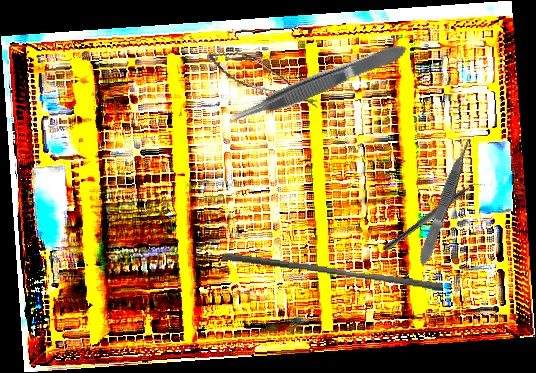Chopper: (382, 175, 487, 259)
Micro Scissor: (201, 45, 327, 109)
Pusher: (218, 252, 446, 292)
Tissue Forceps: (223, 40, 412, 130), (415, 135, 477, 267)
